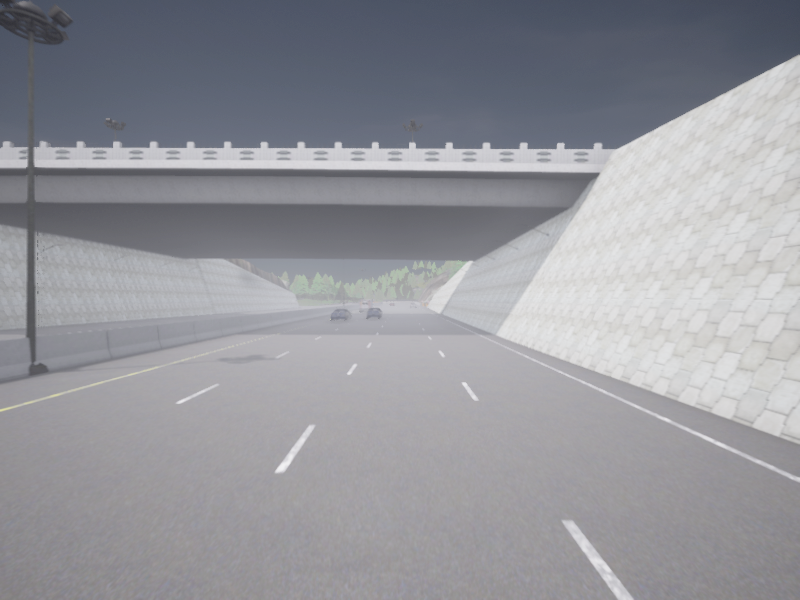vehicle: (331, 308, 351, 320), (359, 300, 373, 311), (367, 308, 382, 318), (410, 303, 415, 307), (390, 302, 394, 305)
